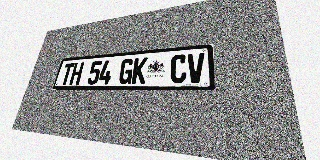4: (98, 60, 114, 84)
5: (87, 61, 102, 85)
C: (170, 54, 187, 83)
G: (118, 58, 134, 84)
H: (69, 62, 84, 85)
K: (131, 57, 148, 84)
T: (60, 63, 75, 85)
V: (187, 53, 205, 83)
